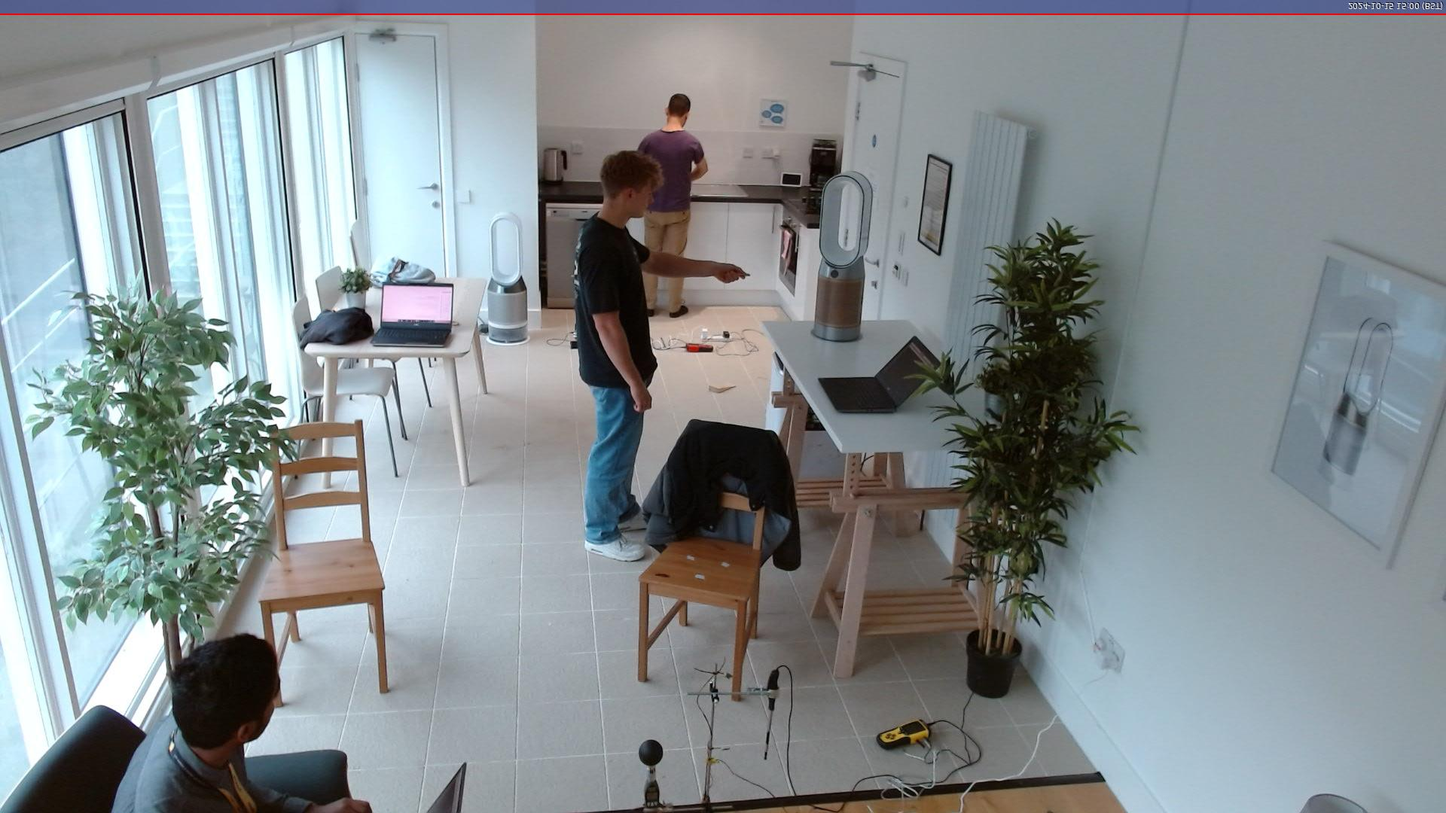long sleeve shirt: (110, 712, 314, 813)
short sleeve shirt: (572, 212, 658, 393), (633, 126, 708, 212)
trousers: (581, 371, 655, 543), (639, 209, 694, 311)
